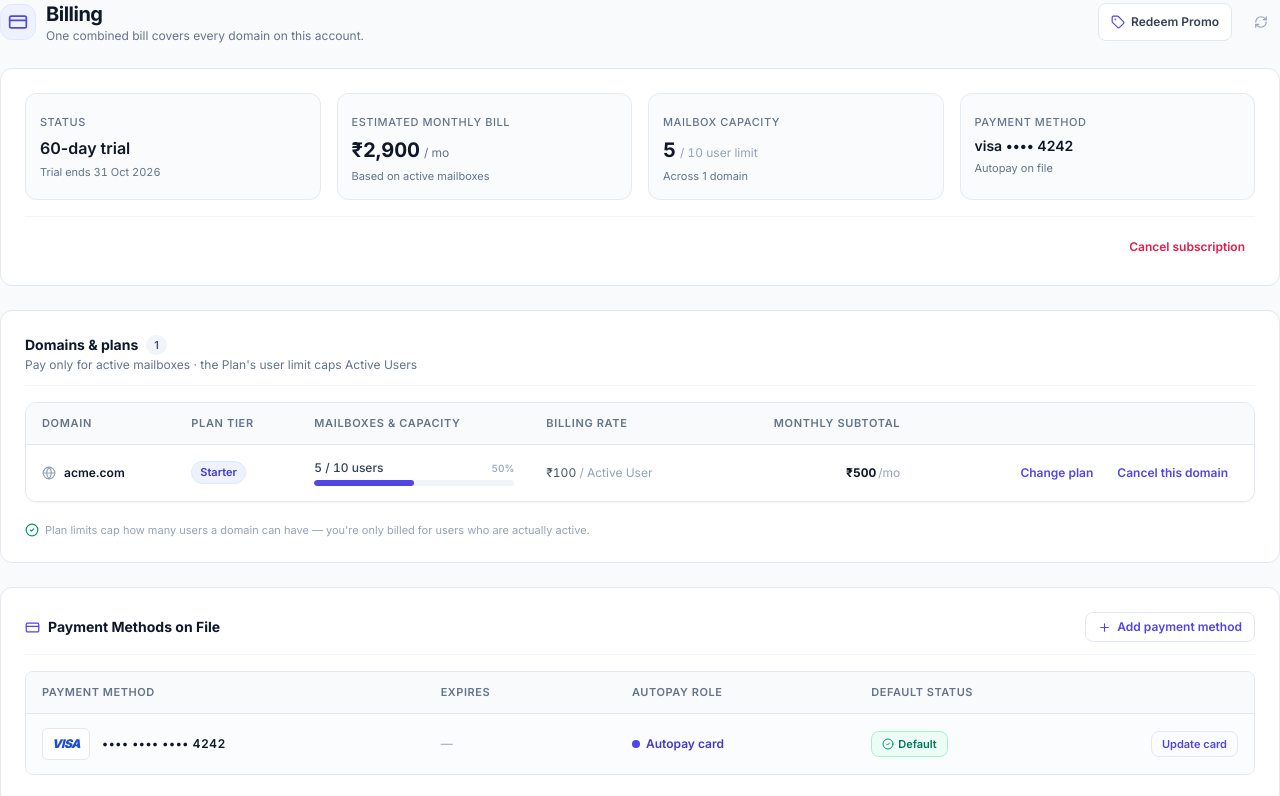
Test: BillingView: changing a domain's Plan › a refusal shows the backend message and leaves the Plan unchanged
Click the button "Change plan".
click(1057, 472)  # box left=1010, top=458, right=1103, bottom=486
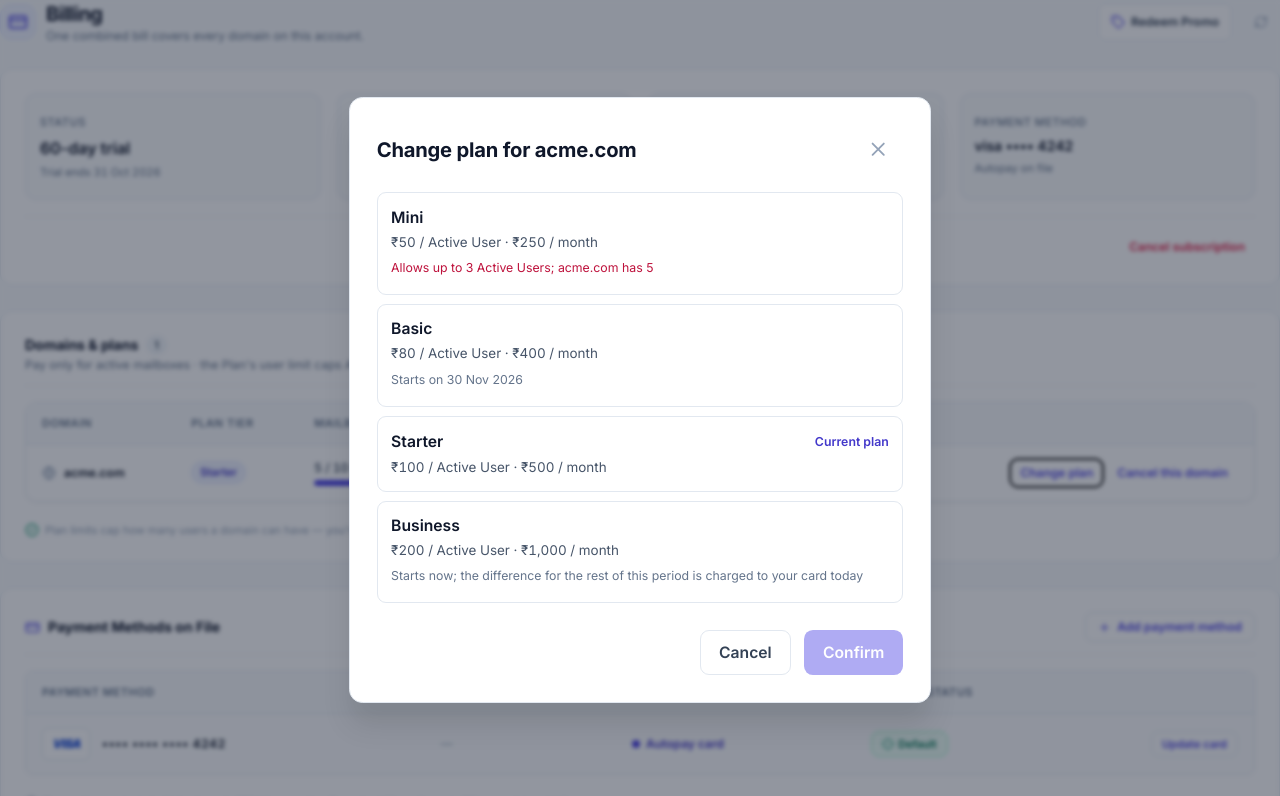
Click the button "Basic ₹80 / Active User · ₹400 / month Starts on 30 Nov 2026".
click(412, 329)  # box left=377, top=304, right=903, bottom=407
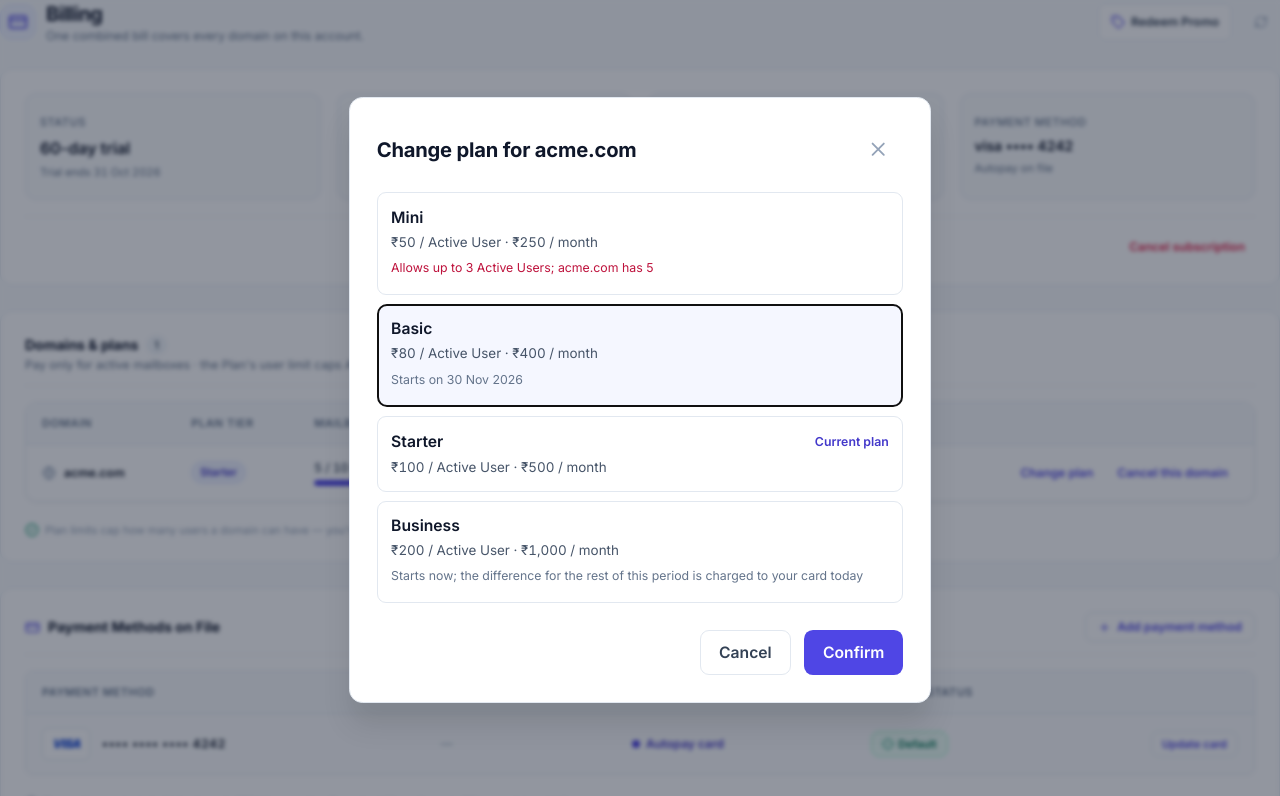
Click the button "Confirm".
click(854, 653)  # box left=804, top=630, right=903, bottom=675
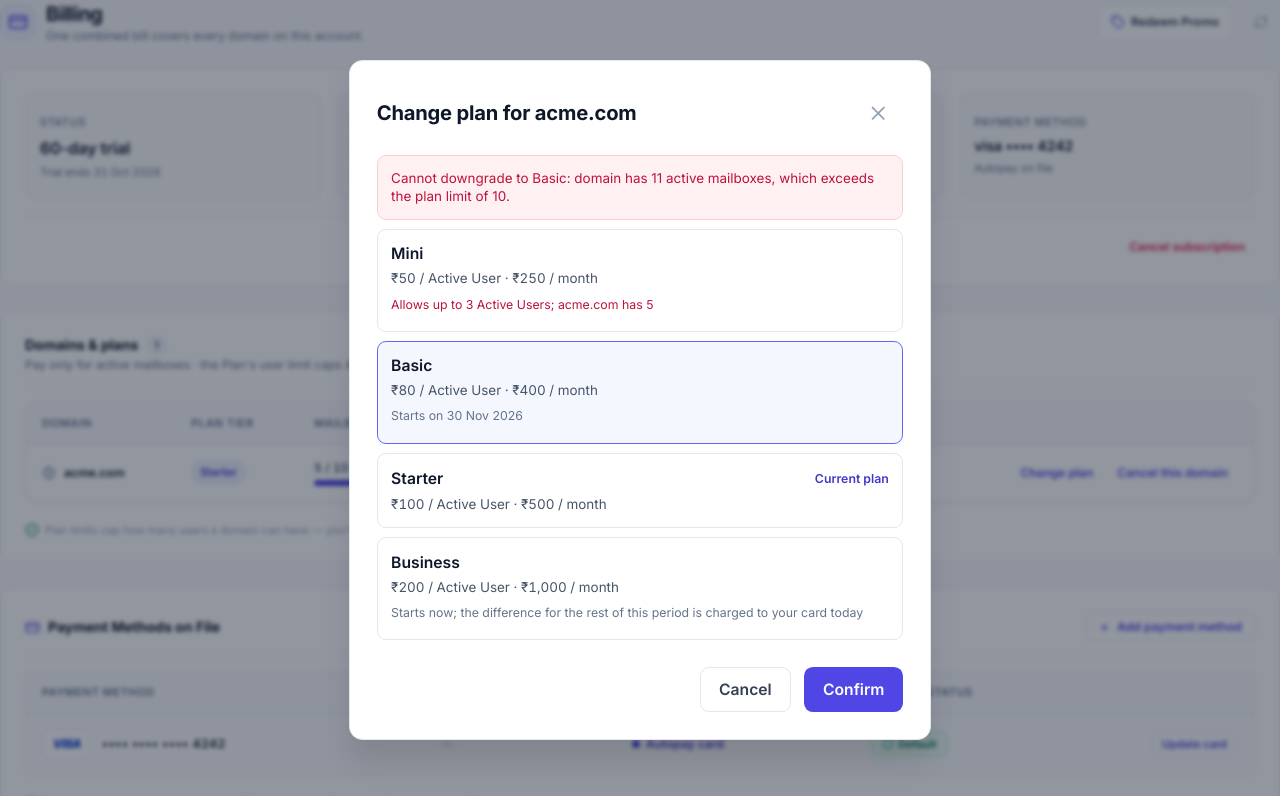
Check: the text "Starter" in the row of "/mo" is shown, box left=200, top=465, right=237, bottom=479
Check: the text "exceeds the plan limit of 10" is shown, box left=391, top=170, right=874, bottom=204
